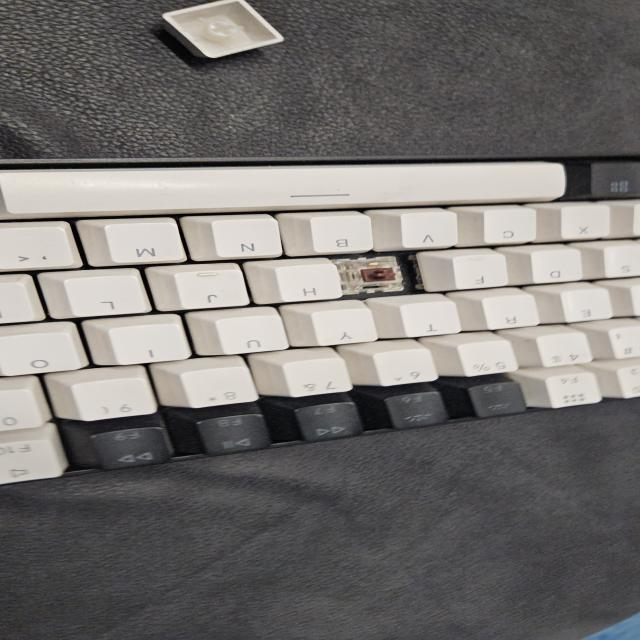C: (348, 261, 405, 291)
